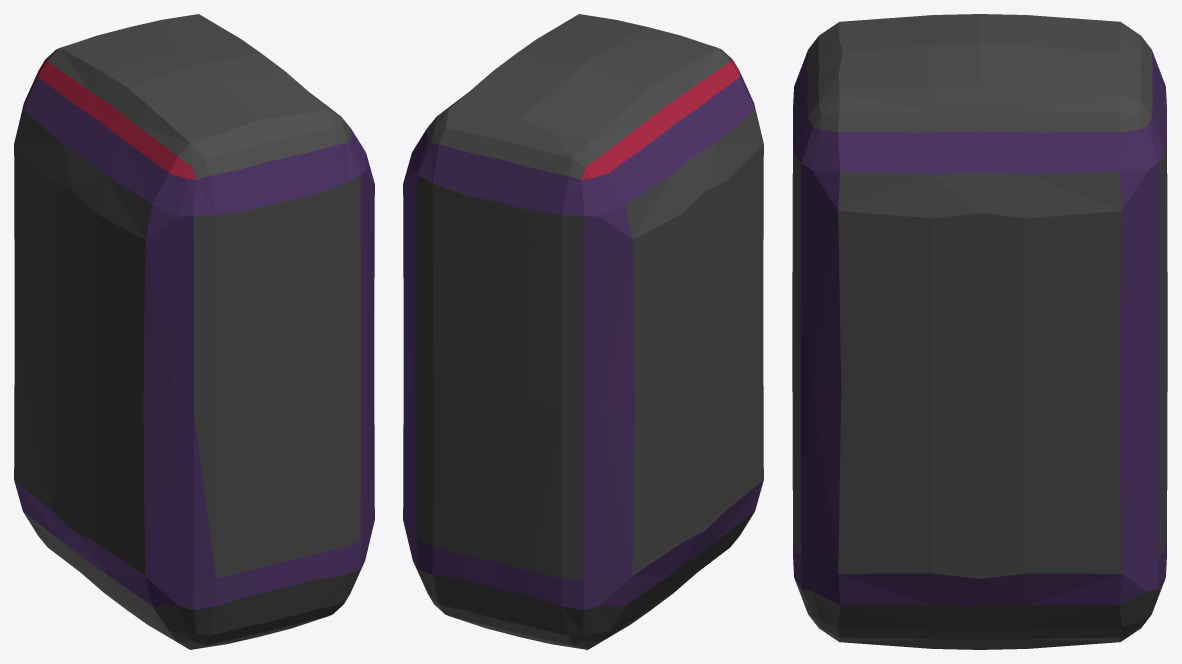
File: Cement bag.fbx
The picture shows the model from 3 angles, left to right: view 1: azimuth 30°, elevation 25°; view 2: azimuth 150°, elevation 25°; view 3: azimuth 270°, elevation 25°; orthographic projection. The views are drawn at different scales.
Visible parts, largest first — view 1: Cube; view 2: Cube; view 3: Cube.
Part boxes in pixels (x1=…): Cube: x1=14, y1=14, x2=374, y2=649; Cube: x1=403, y1=14, x2=763, y2=649; Cube: x1=792, y1=14, x2=1167, y2=649.
Size of the model in its own units: 183 by 386 by 227.
